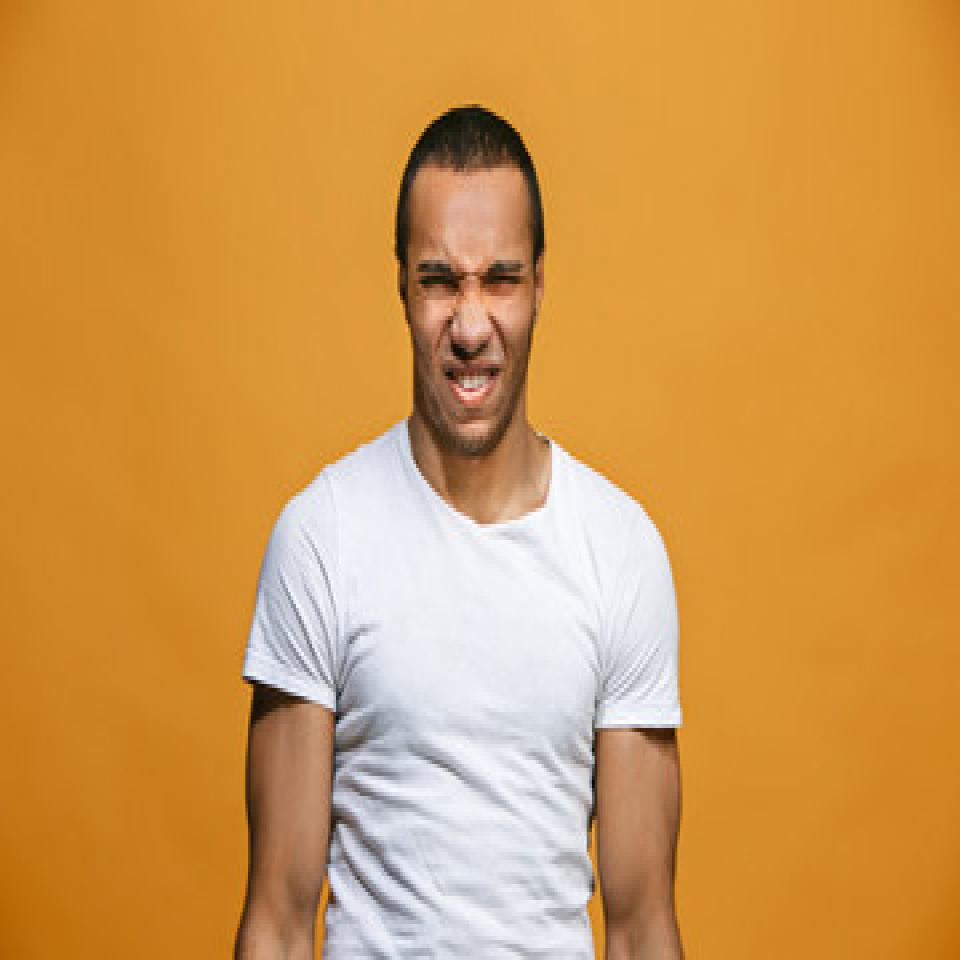Disgust: (404, 178, 535, 446)
